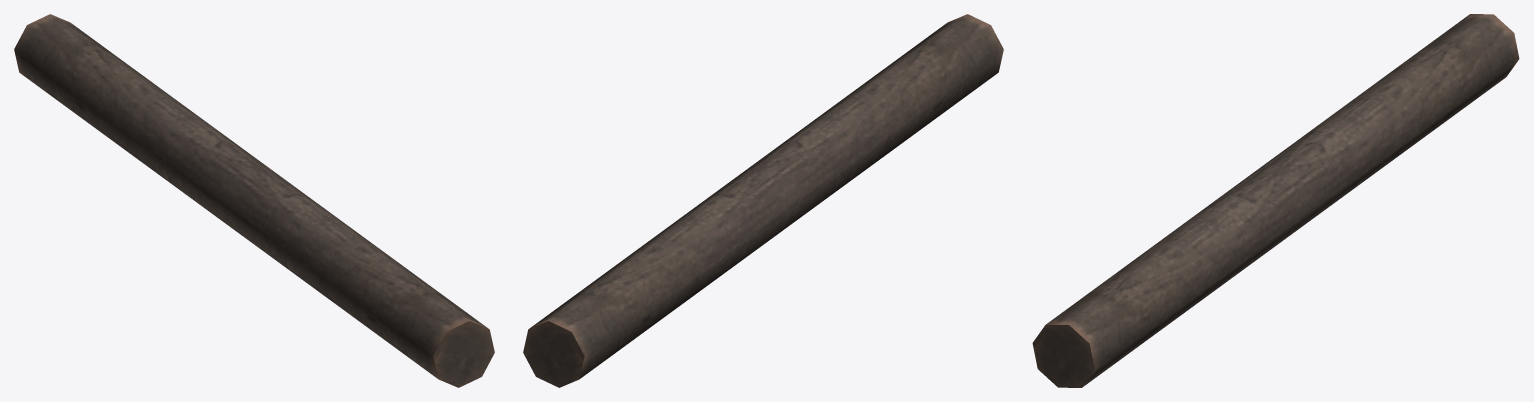
The model's file is FB_Dixiashuidao_mutou01.FBX.
3 views of the same model, side by side, from view 1: azimuth 30°, elevation 25°; view 2: azimuth 150°, elevation 25°; view 3: azimuth 330°, elevation 25° (orthographic).
Parts seen in each view (by area): view 1: Object07; view 2: Object07; view 3: Object07.
Boxes of the visible parts, box(x1,y1,x2,y2) form: Object07: box(14, 14, 494, 387); Object07: box(523, 14, 1003, 387); Object07: box(1032, 14, 1519, 387).
Bounding box in the file's own units: 0.5373 × 0.5373 × 6.33.
